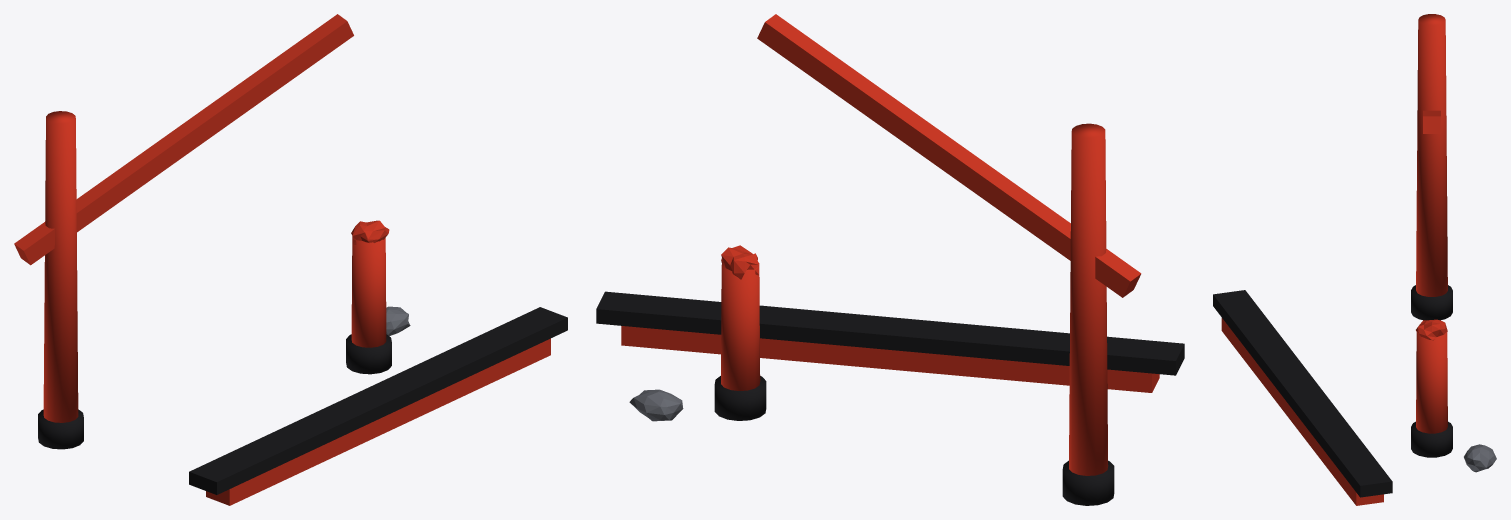
File: gate_broken.glb
The picture shows the model from 3 angles, left to right: view 1: azimuth 30°, elevation 25°; view 2: azimuth 150°, elevation 25°; view 3: azimuth 270°, elevation 25°; orthographic projection. The views are drawn at different scales.
Visible parts, largest first — view 1: GateBrokenMesh; view 2: GateBrokenMesh; view 3: GateBrokenMesh.
Boxes of the visible parts, bbox=[...] form: GateBrokenMesh: bbox=[14, 14, 567, 505]; GateBrokenMesh: bbox=[596, 14, 1184, 505]; GateBrokenMesh: bbox=[1213, 14, 1496, 505].
Size of the model in its own units: 6.62 by 4.39 by 3.52.
